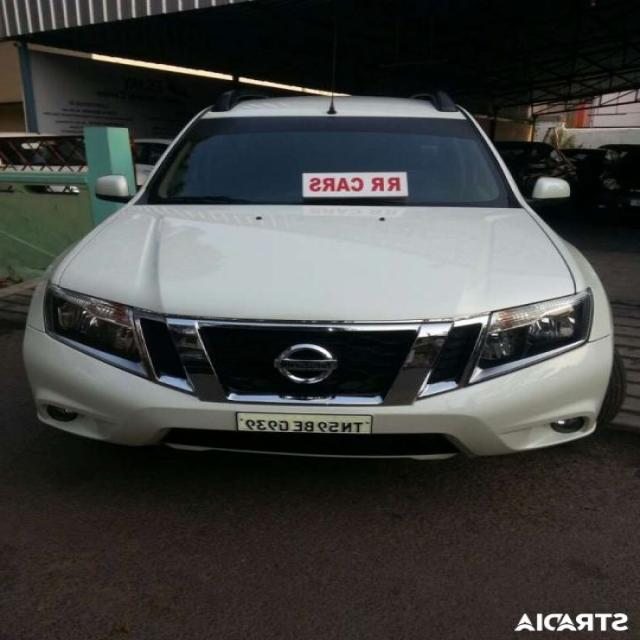number-plate: (209, 404, 393, 447)
